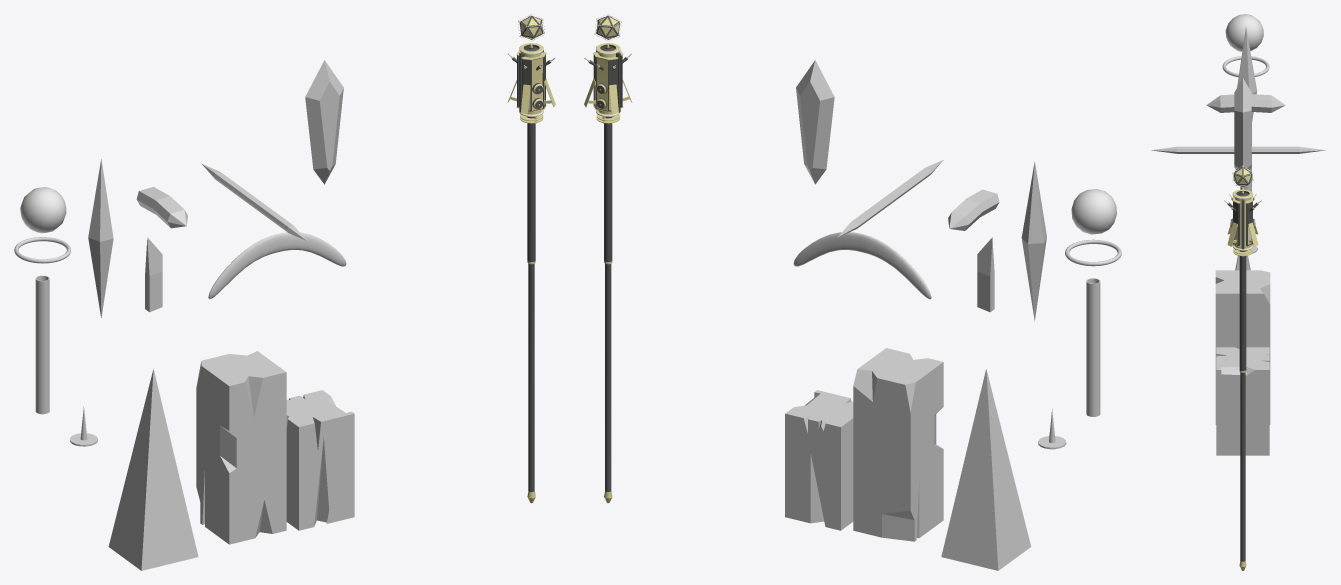
The model's file is Staff.fbx.
3 views of the same model, side by side, from view 1: azimuth 30°, elevation 25°; view 2: azimuth 150°, elevation 25°; view 3: azimuth 270°, elevation 25° (orthographic). The views are drawn at different scales.
Visible parts, largest first — view 1: Rock_Large, Spike, Rock_Small, Staff, Crystal_Drop, Wave, Crystal_Single, Tube, Spher, Crystal_Small, Blade, Crystal_Large; view 2: Rock_Large, Spike, Rock_Small, Staff, Crystal_Drop, Wave, Crystal_Single, Tube, Spher, Crystal_Small, Blade, Crystal_Large; view 3: Rock_Small, Rock_Large, Staff, Crystal_Drop, Crystal_Large, Spher, Crystal_Small, Crystal_Single, Torus.
Boxes of the visible parts, box(x1,y1,x2,y2) form: Rock_Large: box(196, 351, 286, 544); Spike: box(108, 369, 198, 570); Rock_Small: box(286, 390, 354, 530); Staff: box(507, 14, 555, 503); Crystal_Drop: box(305, 60, 343, 184); Wave: box(208, 232, 346, 299); Crystal_Single: box(88, 159, 113, 317); Tube: box(35, 275, 49, 414); Spher: box(20, 187, 66, 233); Crystal_Small: box(136, 187, 187, 228); Blade: box(145, 237, 162, 312); Crystal_Large: box(201, 163, 307, 241); Rock_Large: box(853, 348, 943, 541); Spike: box(941, 369, 1031, 570); Rock_Small: box(785, 390, 853, 530); Staff: box(584, 14, 632, 503); Crystal_Drop: box(796, 60, 834, 184); Wave: box(793, 232, 931, 299); Crystal_Single: box(1021, 161, 1046, 321); Tube: box(1086, 278, 1100, 416); Spher: box(1071, 189, 1116, 234); Crystal_Small: box(948, 189, 999, 230); Blade: box(977, 237, 994, 312); Crystal_Large: box(837, 160, 943, 237); Rock_Small: box(1216, 347, 1269, 455); Rock_Large: box(1215, 270, 1270, 424); Staff: box(1224, 165, 1261, 570); Crystal_Drop: box(1234, 78, 1251, 169); Crystal_Large: box(1151, 146, 1325, 153); Spher: box(1225, 14, 1263, 51); Crystal_Small: box(1206, 94, 1285, 112); Crystal_Single: box(1237, 27, 1256, 123); Torus: box(1222, 56, 1269, 77).
Bounding box in the file's own units: 45.47 × 40.52 × 15.89.
